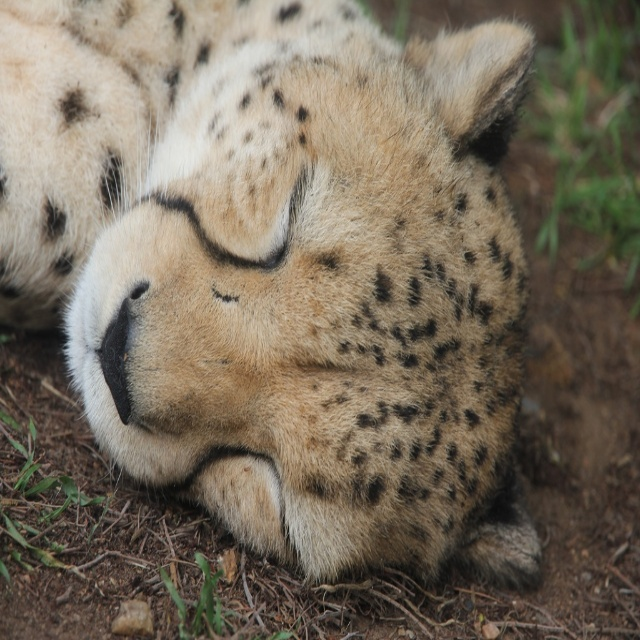Cheetah: (0, 0, 546, 590)
